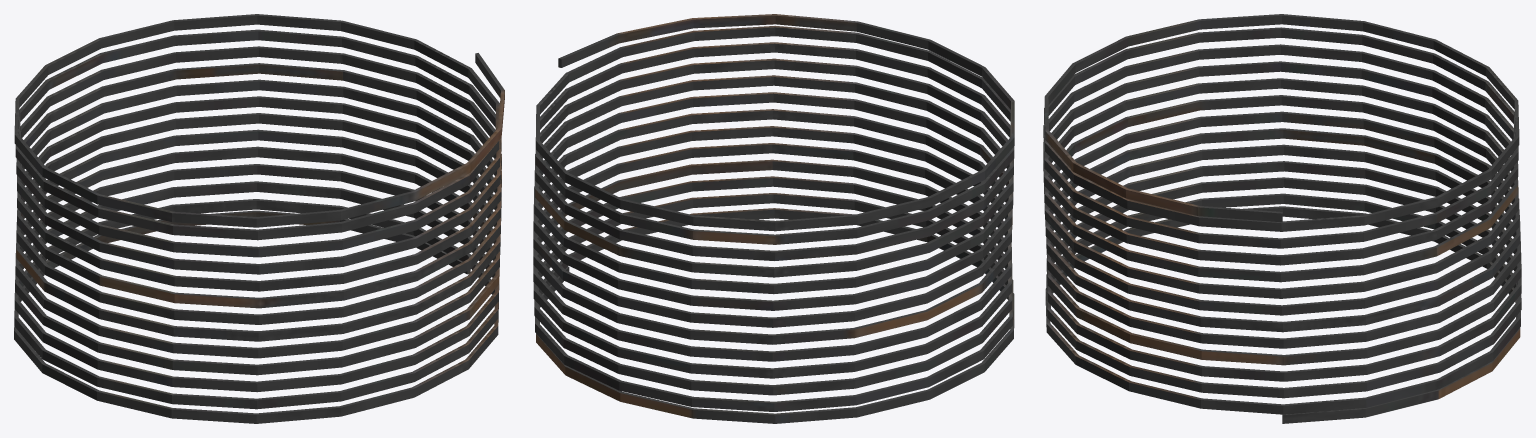
The model's file is T21_slinky_spring.glb.
3 renders of one model, left to right at view 1: azimuth 30°, elevation 25°; view 2: azimuth 150°, elevation 25°; view 3: azimuth 270°, elevation 25°, orthographic. The views are drawn at different scales.
Visible parts, largest first — view 1: Worn_Steel_Slinky; view 2: Worn_Steel_Slinky; view 3: Worn_Steel_Slinky.
Boxes of the visible parts, x1=… form: Worn_Steel_Slinky: x1=14, y1=14, x2=504, y2=423; Worn_Steel_Slinky: x1=533, y1=14, x2=1014, y2=423; Worn_Steel_Slinky: x1=1043, y1=14, x2=1521, y2=423.
Size of the model in its own units: 0.2 by 0.096 by 0.1944.
2 materials, 2 textured.
